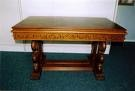obstacle: (12, 16, 126, 79)
